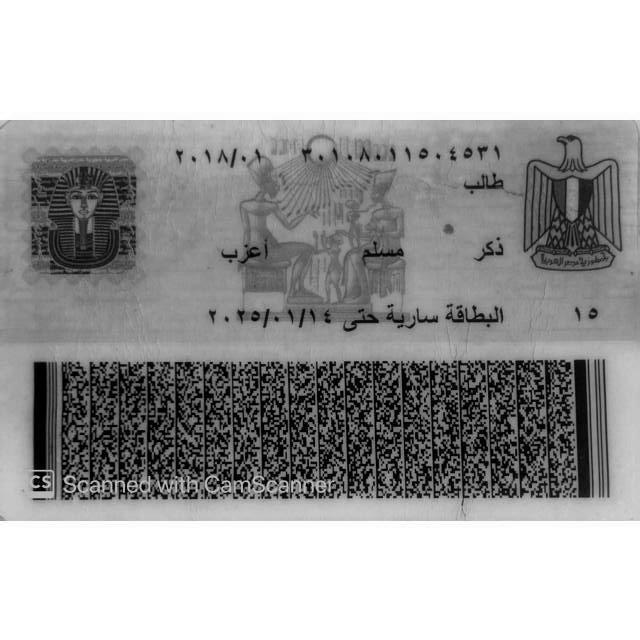id_card: (0, 120, 639, 517)
